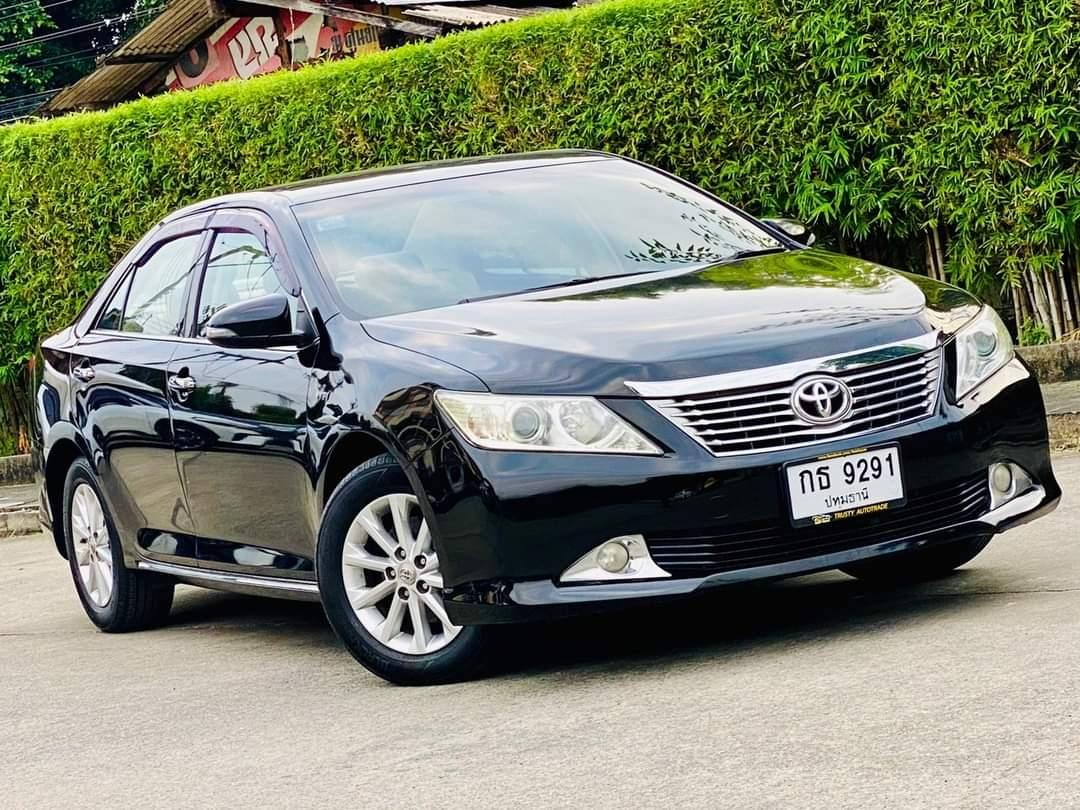license-plate: (780, 440, 907, 531)
